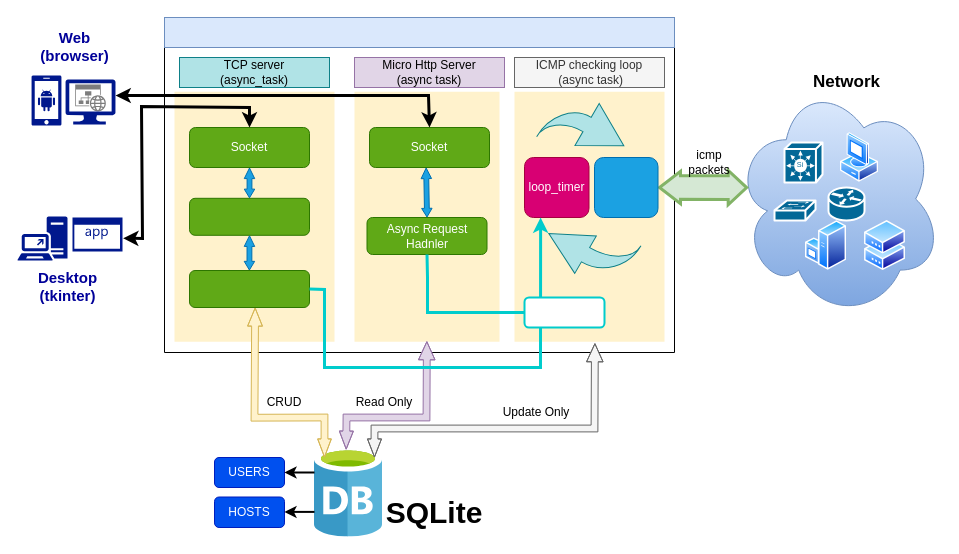
The diagram is 959 pixels wide and 554 high, and some of its shapes have lost their labels. The box of each missing label's shape, as (x1, y1, x2, y2) in pixels:
Async Handler (json): (188, 270, 310, 308)
icmplib: (594, 156, 658, 218)
Protocol (struct+zlib): (188, 197, 310, 235)
Python Process: (164, 16, 674, 48)
WakeUP signal: (523, 296, 605, 328)
